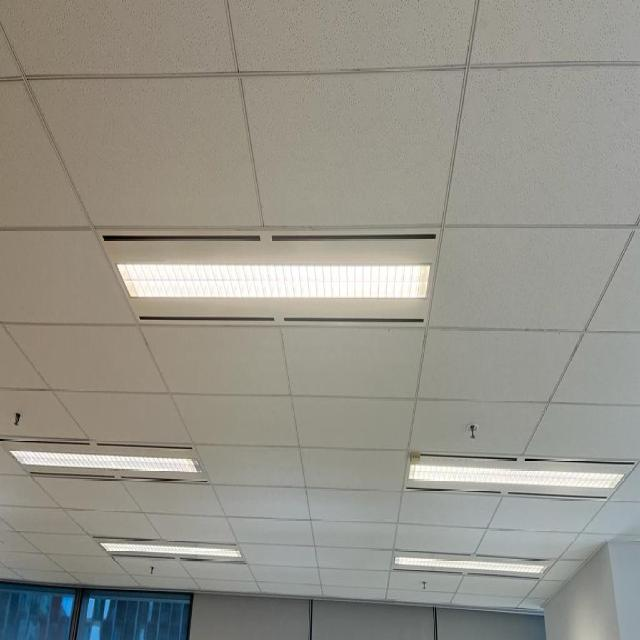Light-Opened: (91, 223, 441, 328), (404, 449, 634, 498), (0, 440, 209, 482), (93, 534, 245, 563), (392, 552, 553, 578)
